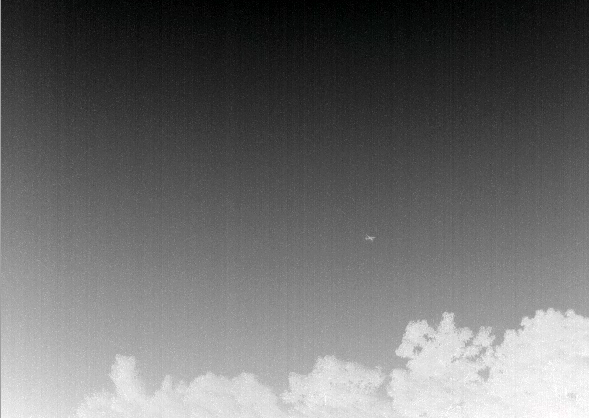dim target: (365, 234, 376, 241)
